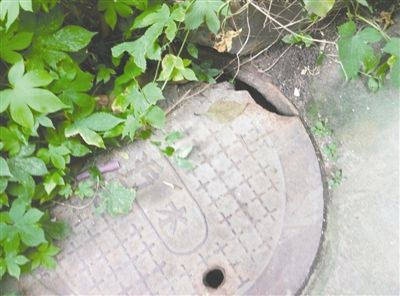broke: (3, 53, 354, 296)
